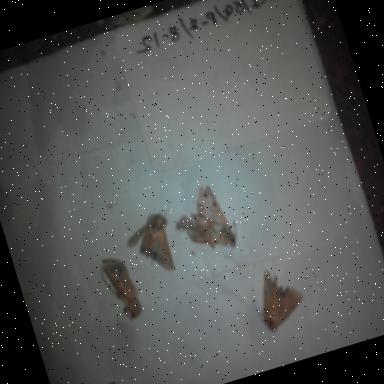abw: (163, 174, 248, 276), (242, 257, 314, 339), (118, 206, 186, 285), (92, 248, 152, 332), (86, 370, 151, 384)
